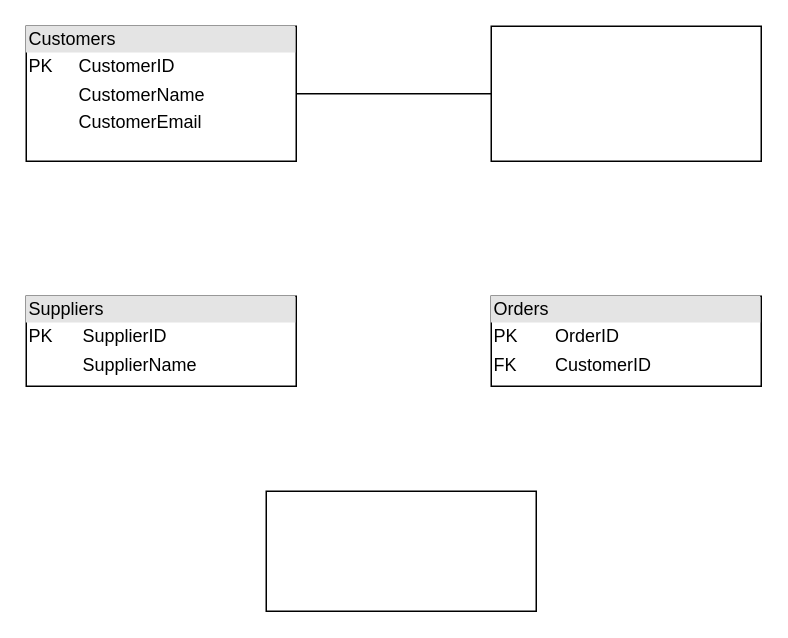
The diagram is 788 pixels wide and 638 high, and some of its shapes have lost their labels. The centre of each missing label's shape, as x and y in pixels:
"OrderDetails FK OrderID FK ProductID Quantity" belongs at [400,550].
"Products PK ProductID ProductName FK UnitPrice SupplierID" belongs at [625,93].
